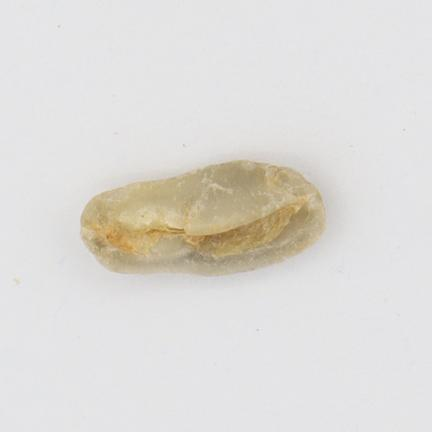shell: (81, 161, 325, 275)
